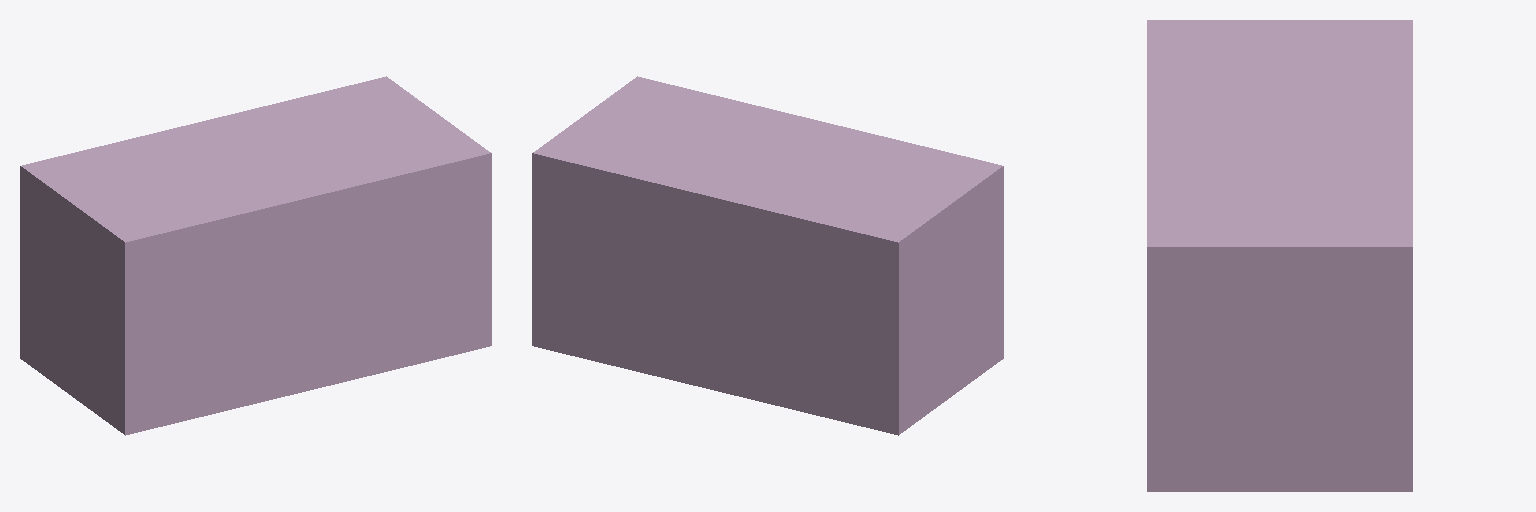
URDF robot description (box.urdf):
<?xml version="1.0" ?>
<robot name="box.urdf">
  <link name="baseLink">
    <contact>
      <lateral_friction value="1.0"/>
      <rolling_friction value="0.0001"/>
      <inertia_scaling value="3.0"/>
    </contact>
    <inertial>
      <origin rpy="0 0 0" xyz="0 0 0"/>
       <mass value="0.1"/>
       <inertia ixx="1" ixy="0" ixz="0" iyy="1" iyz="0" izz="1"/>
    </inertial>
    <visual>
      <origin rpy="0 0 0" xyz="0 0 0"/>
      <geometry>
        <!-- <box size="0.40700000000000003 0.20199999999999999 0.205"/> -->
        <mesh filename="box/box.obj" scale="0.40700000000000003 0.20199999999999999 0.205"/>
      </geometry>
      <material name="white">
        <color rgba="0.8 0.7 0.8 1"/>
      </material>
    </visual>
    <collision>
      <origin rpy="0 0 0" xyz="0 0 0"/>
      <geometry>
        <mesh filename="box/box.obj" scale="0.40700000000000003 0.20199999999999999 0.205"/>
	 	    <!-- <box size="0.40700000000000003 0.20199999999999999 0.205"/> -->
      </geometry>
    </collision>
  </link>
</robot>

--- Render facts (derived) ---
The picture shows the robot from 3 angles, left to right: view 1: azimuth 30°, elevation 25°; view 2: azimuth 150°, elevation 25°; view 3: azimuth 270°, elevation 25°; orthographic projection.
Model box.urdf with 1 links and 0 joints (none), rooted at baseLink, posed all joints at 0.
Links seen in each view (by area): view 1: baseLink; view 2: baseLink; view 3: baseLink.
Link boxes in pixels (left/top/right/bottom): baseLink: left=20, top=76, right=491, bottom=435; baseLink: left=532, top=76, right=1003, bottom=435; baseLink: left=1147, top=20, right=1412, bottom=491.
Size in the robot's own frame: 0.407 by 0.202 by 0.205 metres.
1 mesh visuals loaded from 1 distinct referenced files (1 OBJ).
